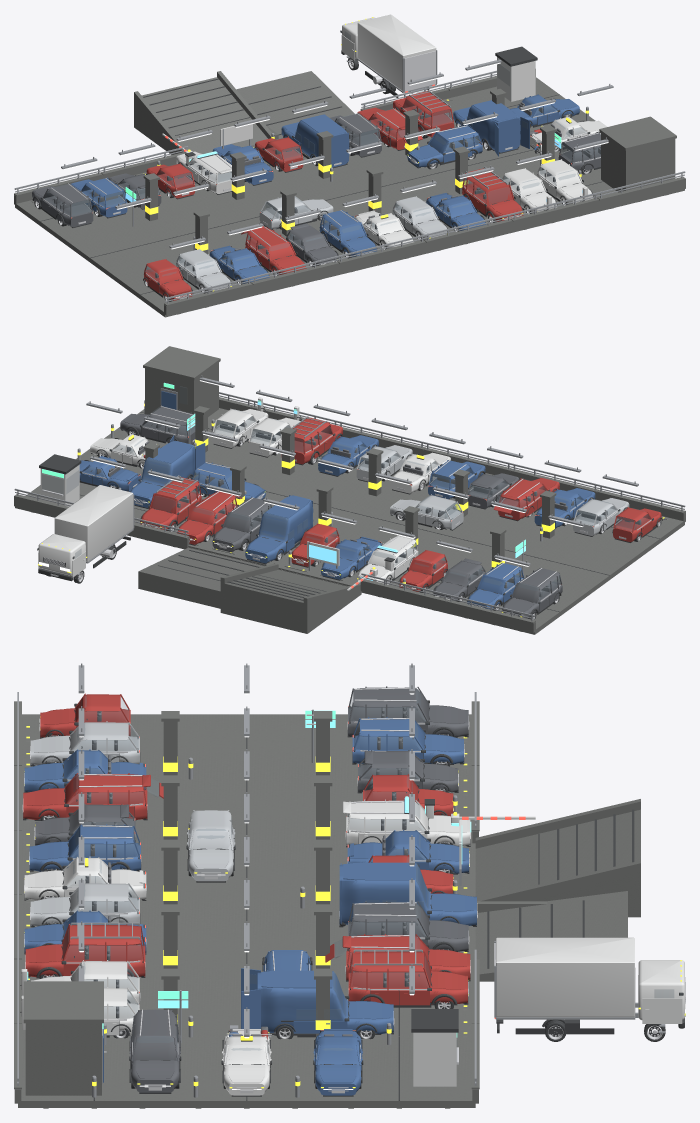
Rendered from car-park-and-road-vehicle-fleet-car-park-87480e33-starter-scene__32562.glb.
The picture shows the model from 3 angles, top to bottom: view 1: azimuth 30°, elevation 25°; view 2: azimuth 150°, elevation 25°; view 3: azimuth 270°, elevation 25°; orthographic projection. The views are drawn at different scales.
Visible parts, largest first — view 1: 038-ramp-slab/0, 127-exit-stair-core/0, 006-deck-slab/0, 039-corner-ramp/0, 168-box-truck/3, 009-deck-slab/0, 007-deck-slab/0, 008-deck-slab/0, 111-panel-van-doors-open/0, 000-deck-slab/0, 107-crew-van/0, 010-deck-slab/0 (+53 smaller); view 2: 038-ramp-slab/0, 168-box-truck/3, 039-corner-ramp/0, 127-exit-stair-core/0, 006-deck-slab/0, 007-deck-slab/0, 107-crew-van/0, 008-deck-slab/0, 009-deck-slab/0, 012-deck-slab/0, 111-panel-van-doors-open/0, 110-boxy-off-roader/0 (+56 smaller); view 3: 168-box-truck/3, 038-ramp-slab/0, 127-exit-stair-core/0, 006-deck-slab/0, 009-deck-slab/0, 007-deck-slab/0, 011-deck-slab/0, 008-deck-slab/0, 039-corner-ramp/0, 005-deck-slab/0, 111-panel-van-doors-open/0, 107-crew-van/0 (+66 smaller).
Part boxes in pixels (x1,y1,x2,y2): 038-ramp-slab/0: (134,71,274,154); 127-exit-stair-core/0: (599,116,676,192); 006-deck-slab/0: (65,219,193,280); 039-corner-ramp/0: (236,71,354,139); 168-box-truck/3: (342,14,436,90); 009-deck-slab/0: (327,156,457,211); 007-deck-slab/0: (154,198,283,253); 008-deck-slab/0: (241,177,368,227); 111-panel-van-doors-open/0: (453,100,520,152); 000-deck-slab/0: (15,200,147,243); 107-crew-van/0: (281,114,349,167); 010-deck-slab/0: (431,139,541,186); 038-ramp-slab/0: (220,563,361,633); 168-box-truck/3: (38,485,133,575); 039-corner-ramp/0: (138,547,274,608); 127-exit-stair-core/0: (143,346,220,416); 006-deck-slab/0: (510,537,634,597); 007-deck-slab/0: (418,516,545,570); 107-crew-van/0: (245,495,313,563); 008-deck-slab/0: (331,495,440,546); 009-deck-slab/0: (264,473,372,526); 012-deck-slab/0: (552,516,684,561); 111-panel-van-doors-open/0: (130,440,195,507); 110-boxy-off-roader/0: (140,477,201,530); 168-box-truck/3: (495,937,685,1020); 038-ramp-slab/0: (475,799,640,917); 127-exit-stair-core/0: (23,981,103,1095); 006-deck-slab/0: (177,714,315,778); 009-deck-slab/0: (177,907,315,971); 007-deck-slab/0: (177,778,315,843); 011-deck-slab/0: (170,1036,322,1108); 008-deck-slab/0: (177,843,315,907); 039-corner-ramp/0: (475,891,627,981); 005-deck-slab/0: (323,1036,475,1108); 111-panel-van-doors-open/0: (257,970,393,1033); 107-crew-van/0: (339,862,476,925).
Size of the model in its own units: 36.2 by 3.76 by 26.44.
16 materials, 1 textured.
